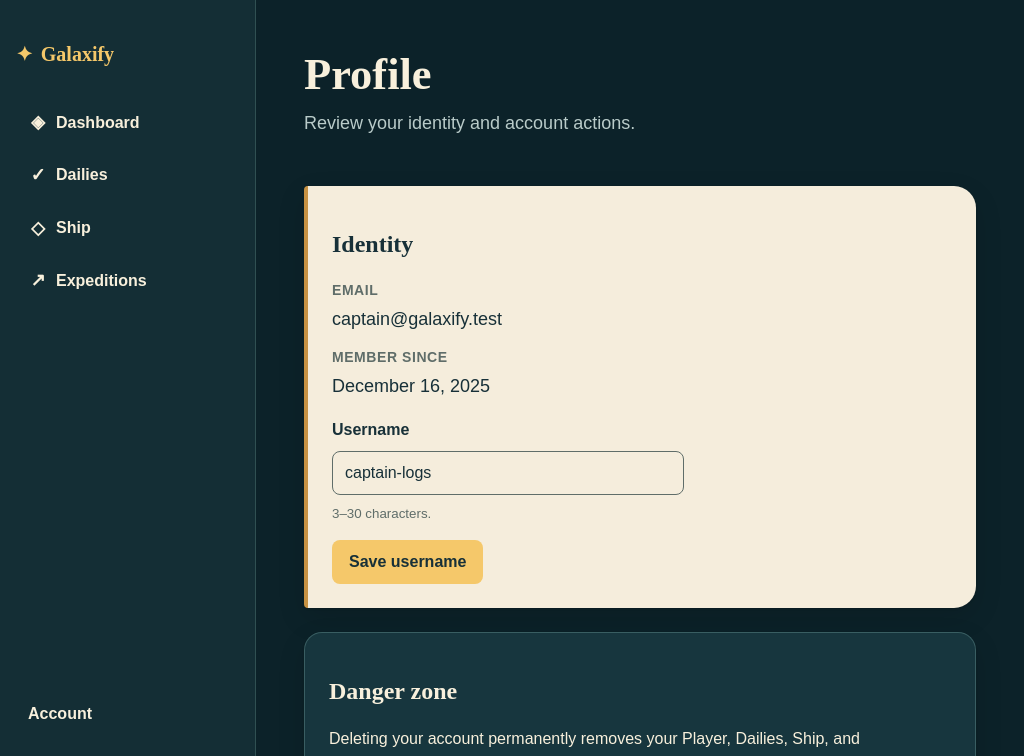
Test: Profile page › keeps username errors inline and accessible
Check: the heading "Profile" is shown, box [304, 49, 432, 99]
Check: the text "captain@galaxify.test" is shown, box [332, 309, 502, 329]
Replace the text in the field labelled "Username" with "taken-name": (508, 473) [332, 451, 684, 495]
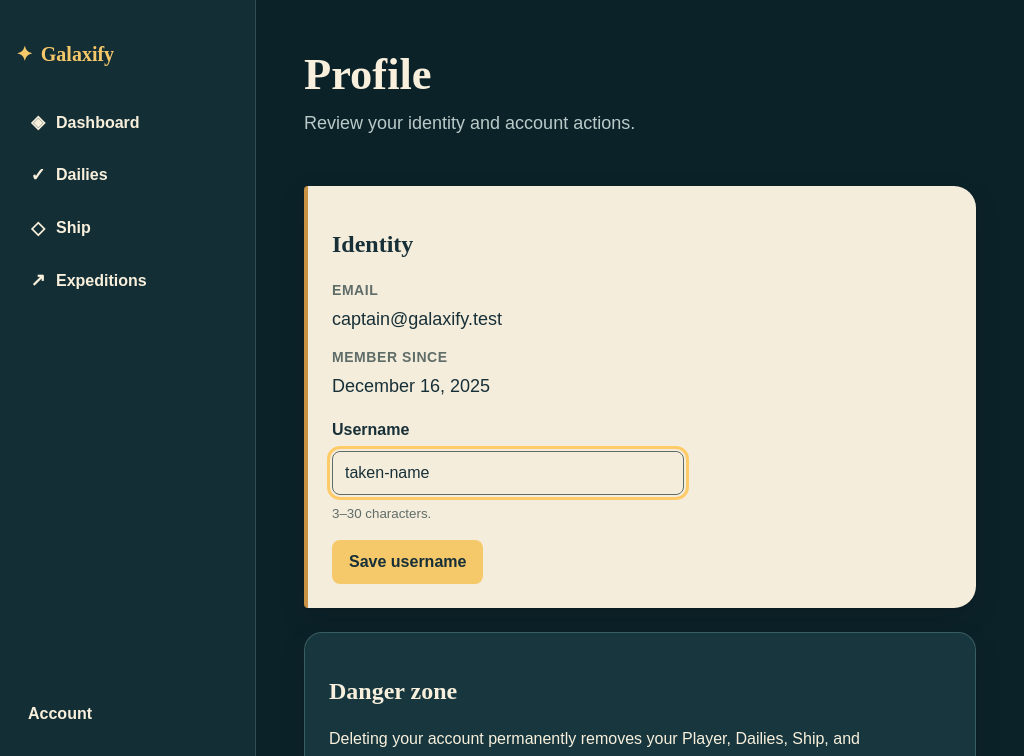
Click the button "Save username": (408, 562) [332, 540, 483, 584]
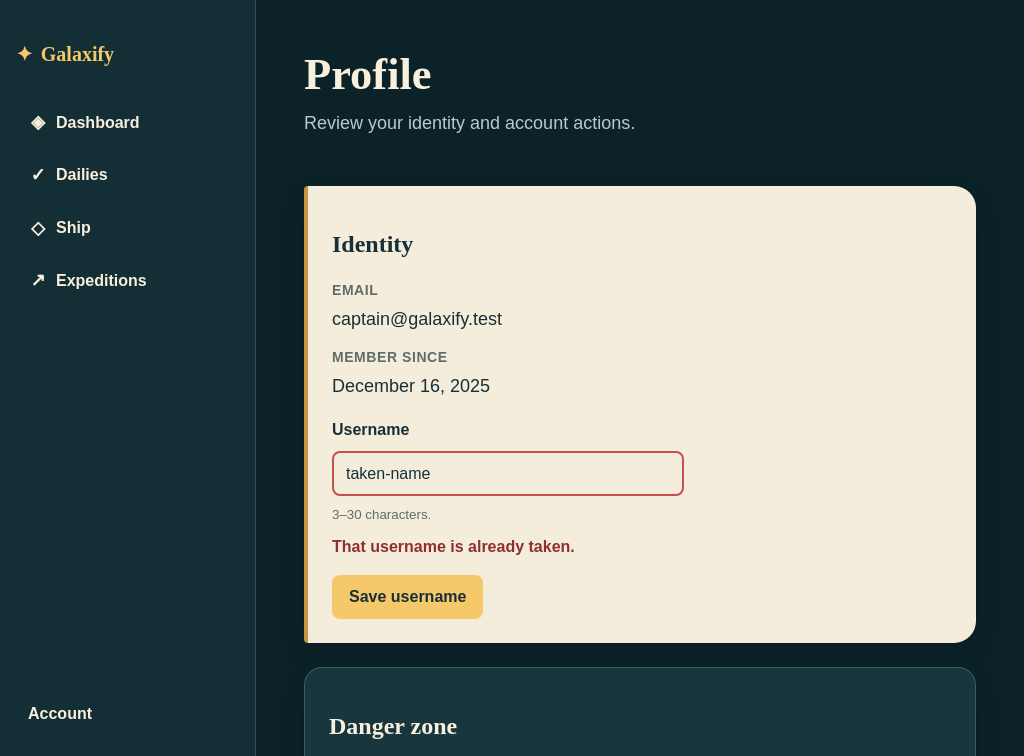
Check: the text "That username is already taken." is shown, box [332, 538, 575, 555]
